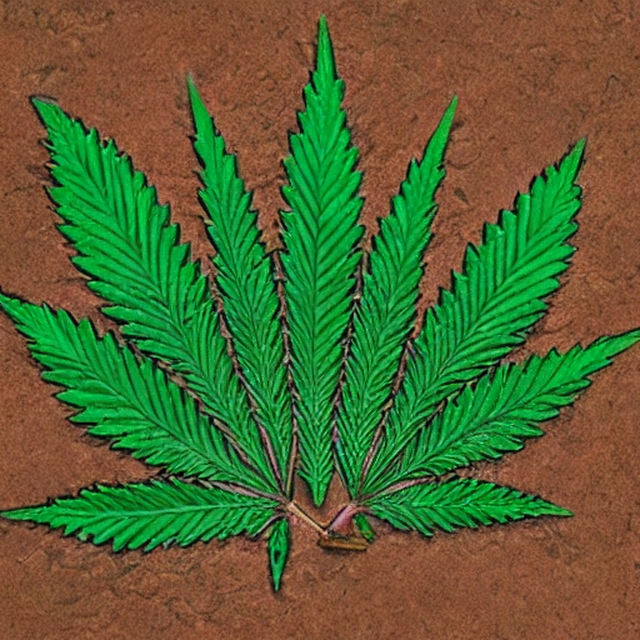Marijuana Leaf: (0, 12, 639, 591)
